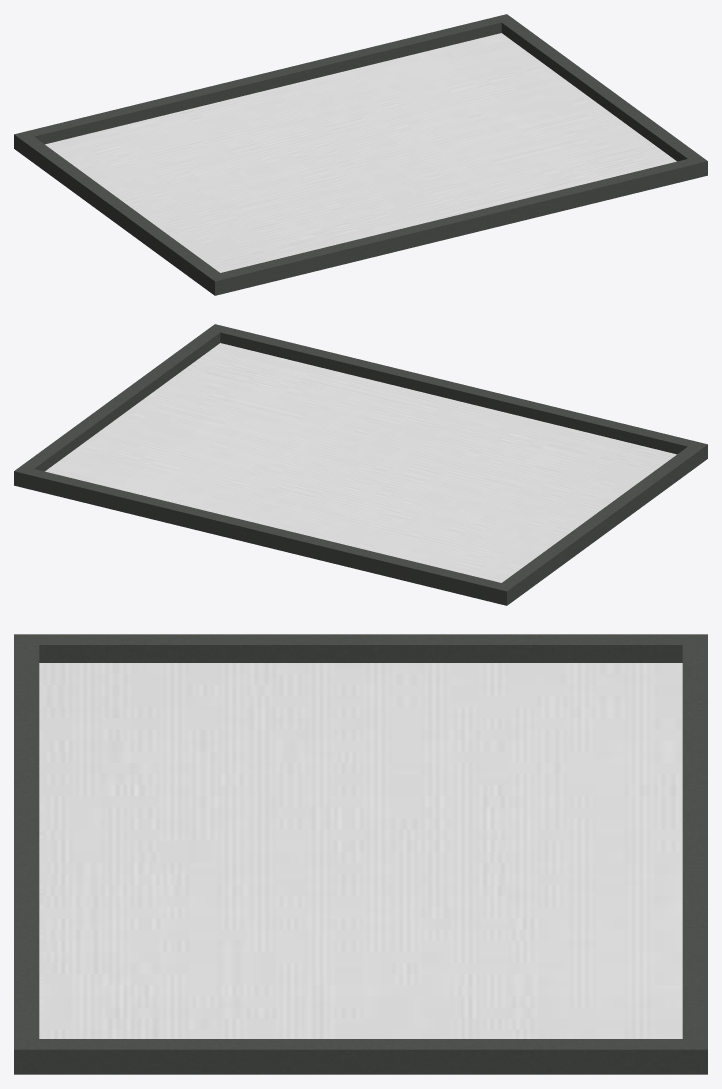
File: white board 1.fbx
3 renders of one model, top to bottom at view 1: azimuth 30°, elevation 25°; view 2: azimuth 150°, elevation 25°; view 3: azimuth 270°, elevation 25°, orthographic. The views are drawn at different scales.
Visible parts, largest first — view 1: White front, White B frame; view 2: White front, White B frame; view 3: White front, White B frame.
Boxes of the visible parts, box(x1,y1,x2,y2) form: White front: box(45, 33, 676, 272); White B frame: box(14, 14, 707, 295); White front: box(45, 343, 676, 582); White B frame: box(14, 324, 707, 605); White front: box(39, 663, 682, 1038); White B frame: box(14, 634, 707, 1074).
Size of the model in its own units: 113 by 3.15 by 79.59.
Materials: 2 (2 with a texture image).
